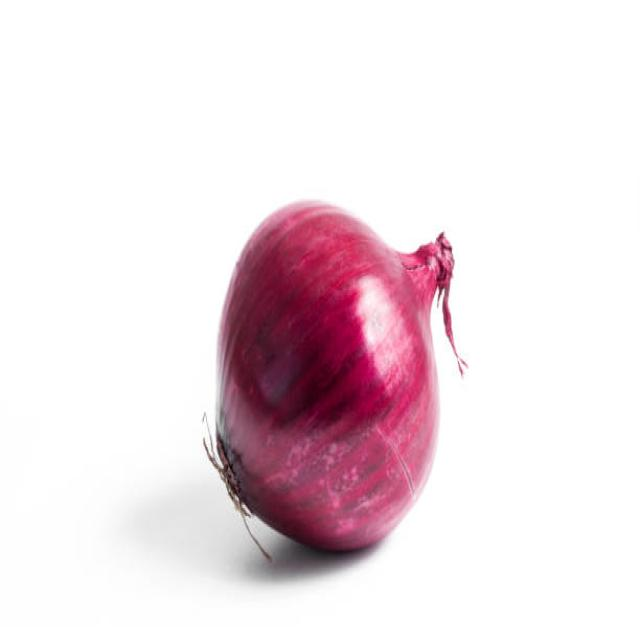onion: (212, 168, 444, 566)
